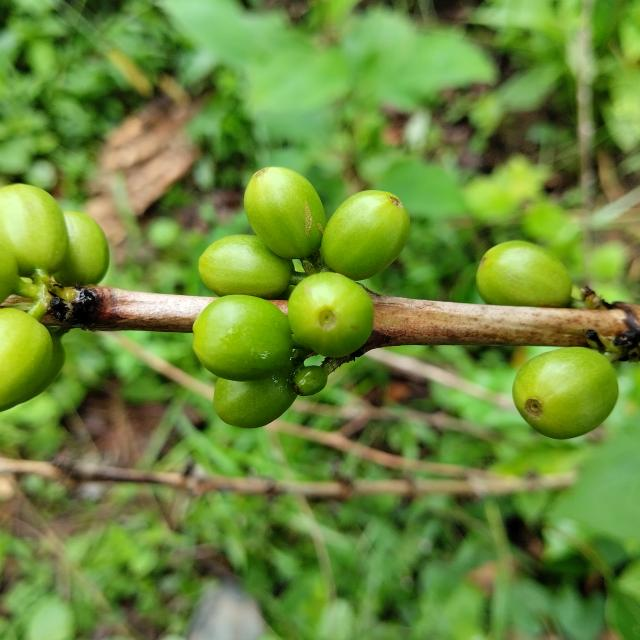green: (513, 347, 620, 440), (192, 295, 292, 382), (321, 190, 410, 280), (244, 166, 326, 259), (288, 272, 374, 358), (0, 183, 68, 283), (477, 240, 573, 307), (198, 234, 294, 299), (213, 364, 297, 429), (0, 308, 51, 412), (53, 210, 109, 286), (21, 328, 68, 402), (0, 243, 19, 303), (292, 366, 328, 396)
